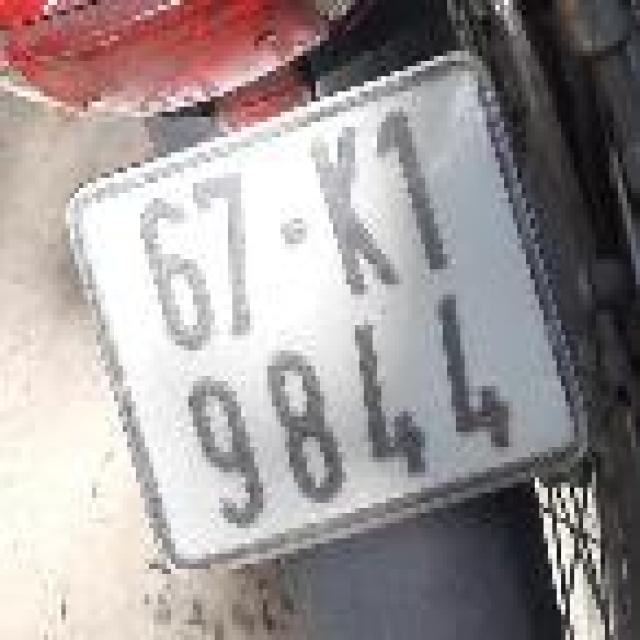1: (362, 93, 465, 281)
4: (419, 274, 528, 472), (334, 303, 440, 495)
6: (129, 181, 226, 365)
7: (192, 152, 284, 350)
8: (248, 332, 359, 512)
9: (174, 363, 279, 539)
K: (290, 114, 414, 314)
